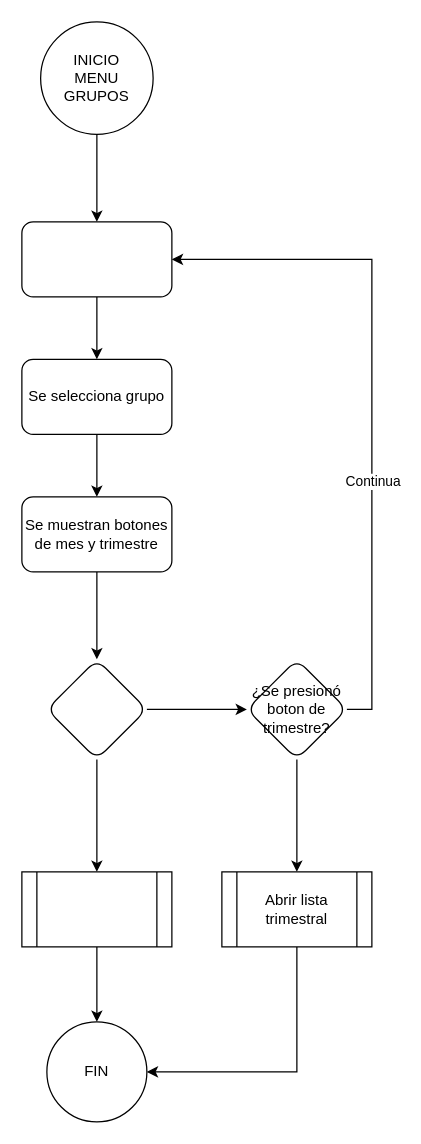
Image size: 421x1144. Some labels were removed from this diagram. The shapes that lost their labels are listed below. From the top down, each one's box as (x1, y1, x2, y2) in pixels, then its label:
(21, 221, 172, 297): Se muestran los grupos en forma de lista
(46, 658, 147, 759): ¿Se presionó boton de un mes?
(21, 871, 172, 947): Abrir lista del mes correspondiente
